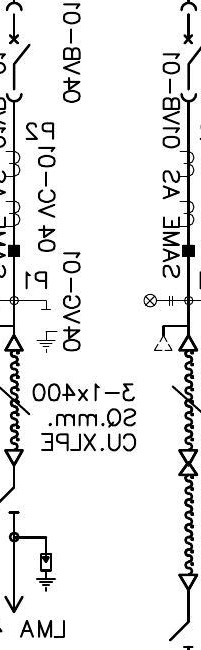22_breaker: (5, 1, 32, 104)
22_gs: (35, 307, 59, 353)
22_ll: (143, 293, 174, 308)
terminator_single: (177, 572, 199, 591), (3, 448, 25, 466)
terminator_splicing_kits: (178, 448, 199, 476)
terminator_w_future: (152, 323, 199, 353)
